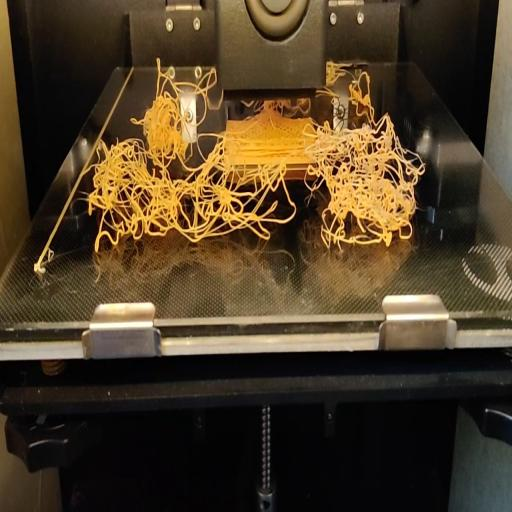spaghetti: (86, 98, 428, 256), (151, 58, 217, 100), (325, 56, 371, 98)
